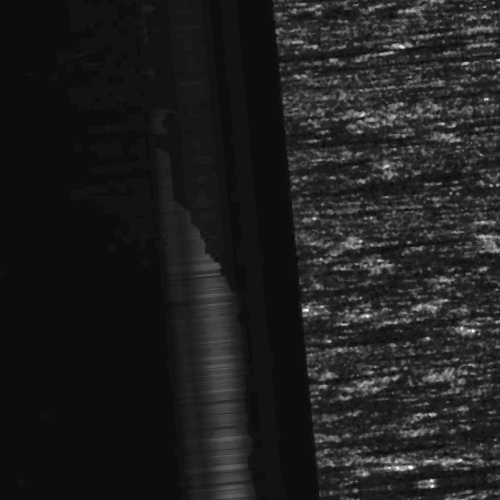object: (377, 144, 500, 155)
shadow: (283, 144, 450, 155)
